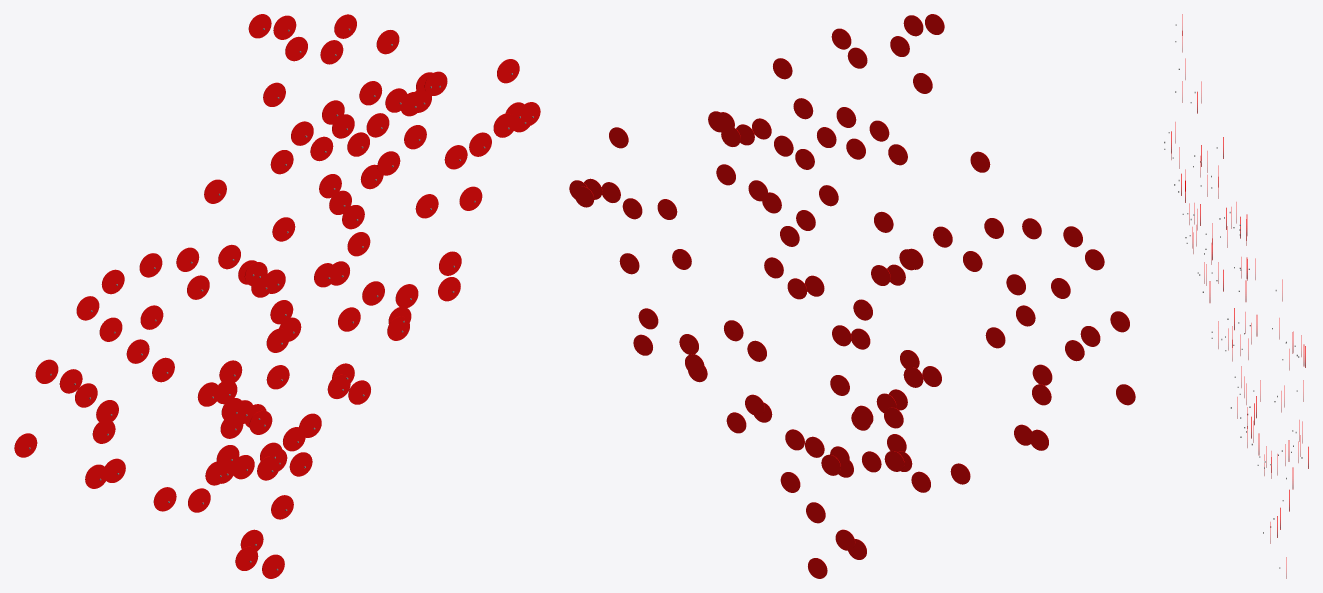
Rendered from obstacles_marker.obj.
3 views of the same model, side by side, from view 1: azimuth 30°, elevation 25°; view 2: azimuth 150°, elevation 25°; view 3: azimuth 270°, elevation 25° (orthographic). The views are drawn at different scales.
Bounding box in the file's own units: 131 × 133 × 32.68.
